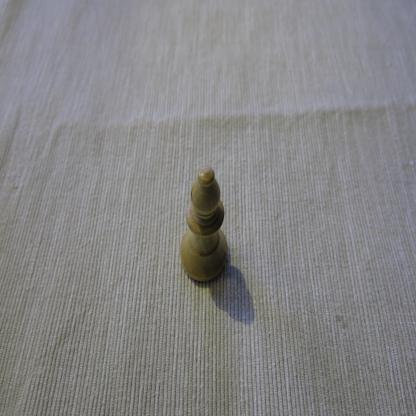white-bishop: (180, 166, 228, 286)
